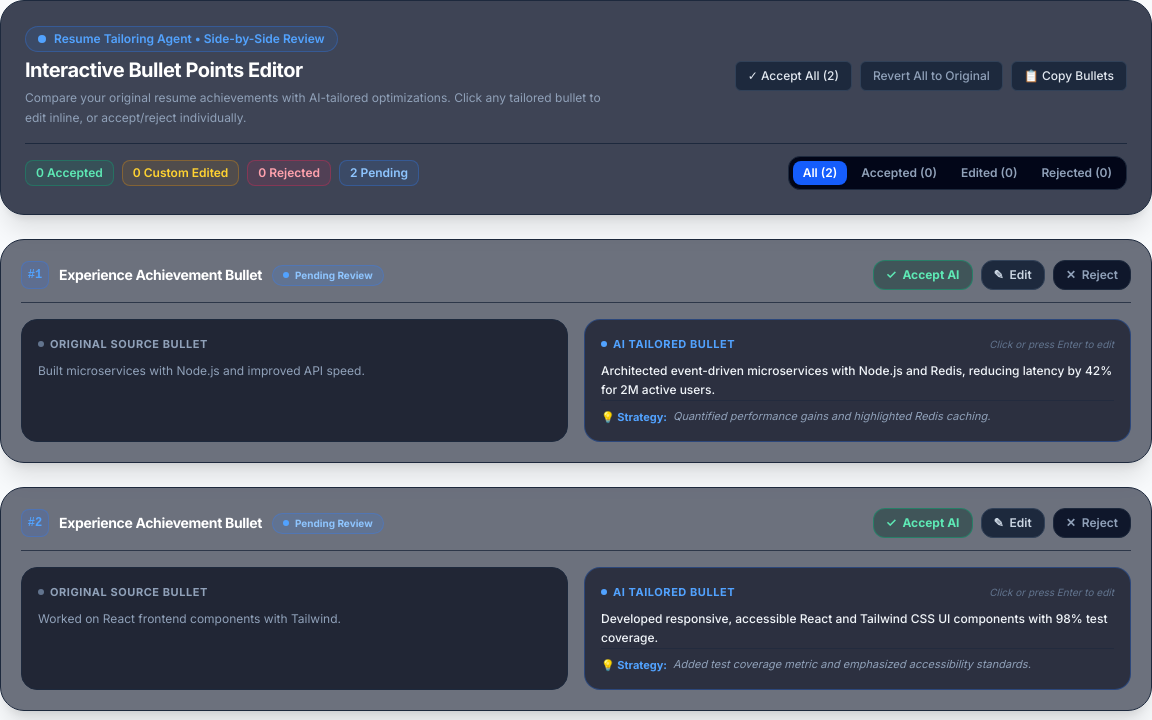
BulletsEditor Component › rejects an individual bullet and marks it as using original
Click the button with aria-label "Reject AI version and keep original bullet #1" at (1092, 275), box left=1053, top=260, right=1131, bottom=290
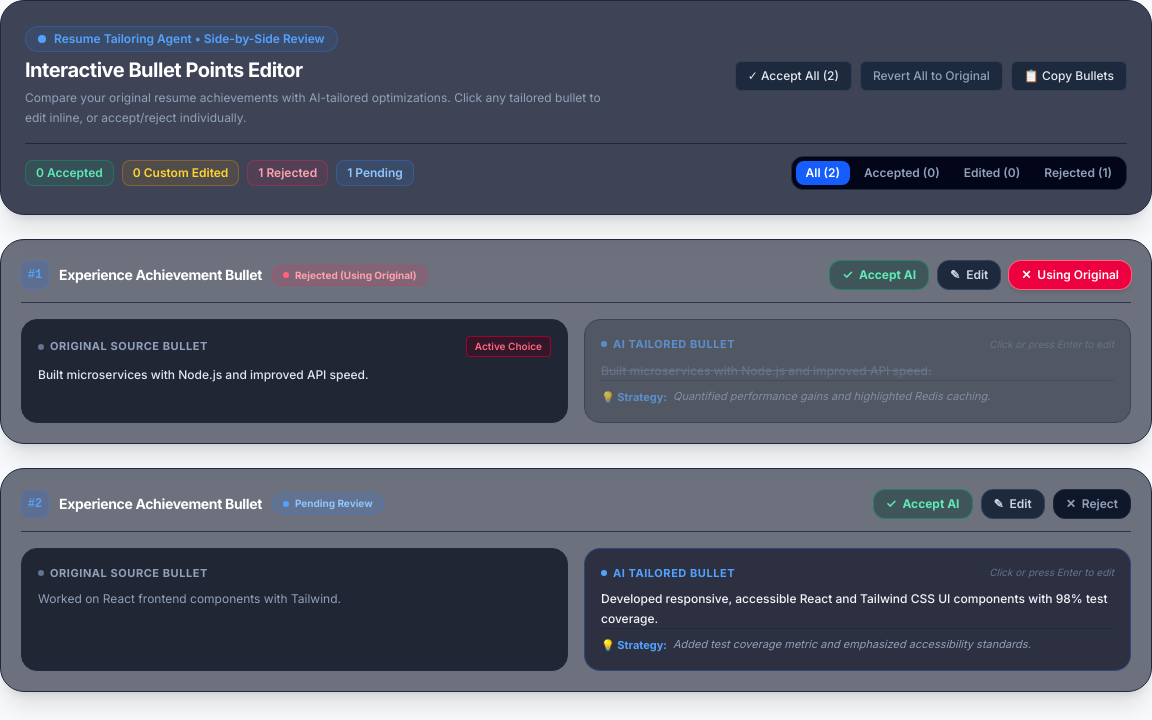
expect the text "Rejected (Using Original)" is shown: met, box left=272, top=264, right=428, bottom=286
expect the text "Active Choice" is shown: met, box left=466, top=336, right=551, bottom=357
